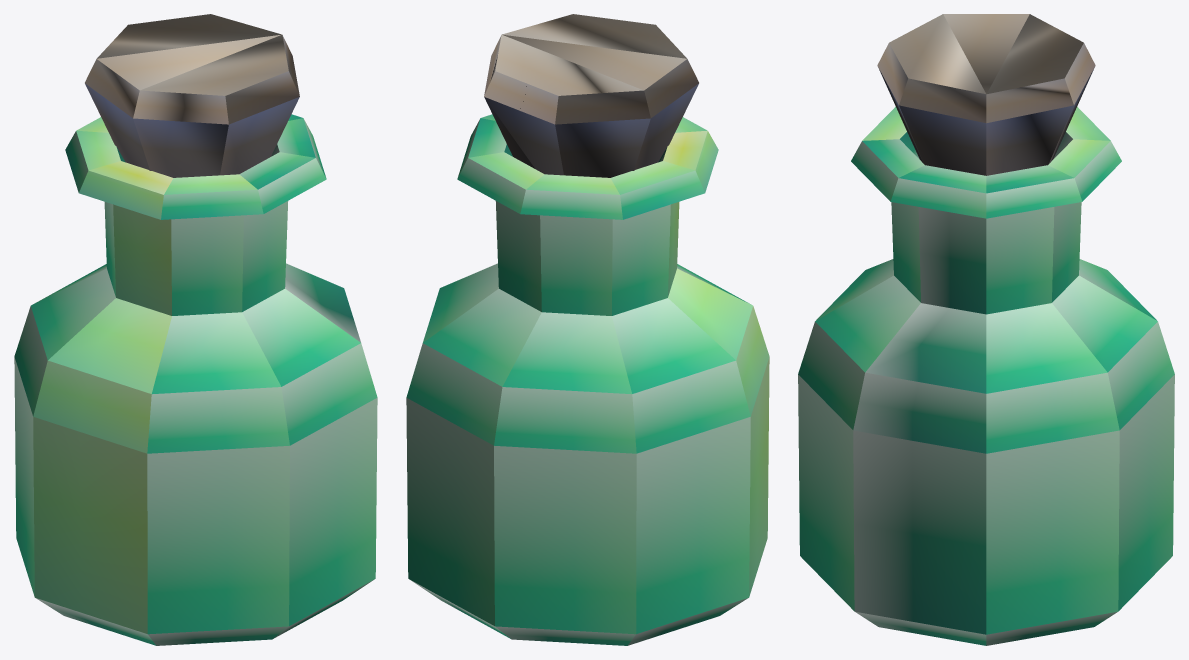
Rendered from vile01.fbx.
3 renders of one model, left to right at view 1: azimuth 30°, elevation 25°; view 2: azimuth 150°, elevation 25°; view 3: azimuth 270°, elevation 25°, orthographic.
Visible parts, largest first — view 1: vile, vileCork; view 2: vile, vileCork; view 3: vile, vileCork.
Boxes of the visible parts, bbox=[...] form: vile: bbox=[14, 114, 377, 645]; vileCork: bbox=[85, 14, 299, 177]; vile: bbox=[406, 114, 769, 645]; vileCork: bbox=[484, 14, 698, 177]; vile: bbox=[798, 106, 1174, 645]; vileCork: bbox=[877, 14, 1095, 175].
Size of the model in its own units: 69.29 by 107 by 69.29.
